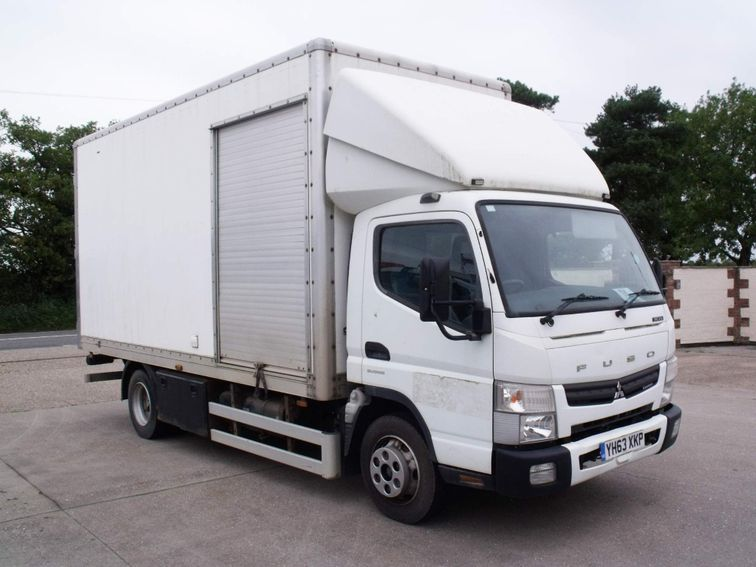Semi: (71, 37, 682, 525)
